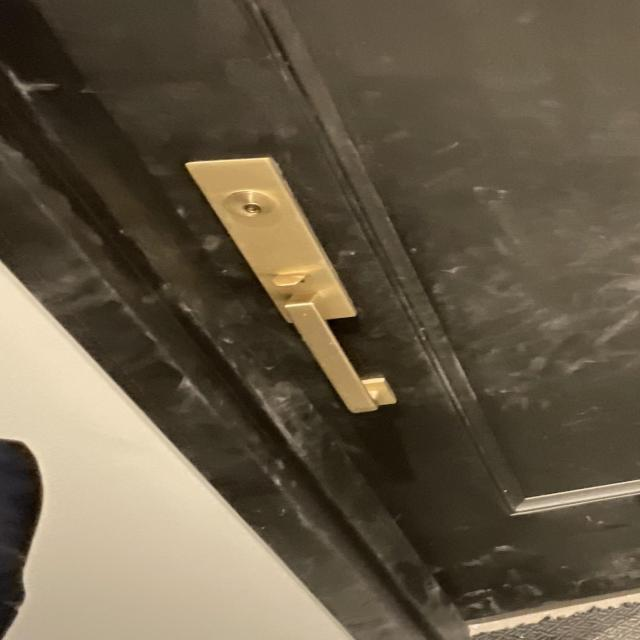door_handle: (253, 290, 404, 424)
